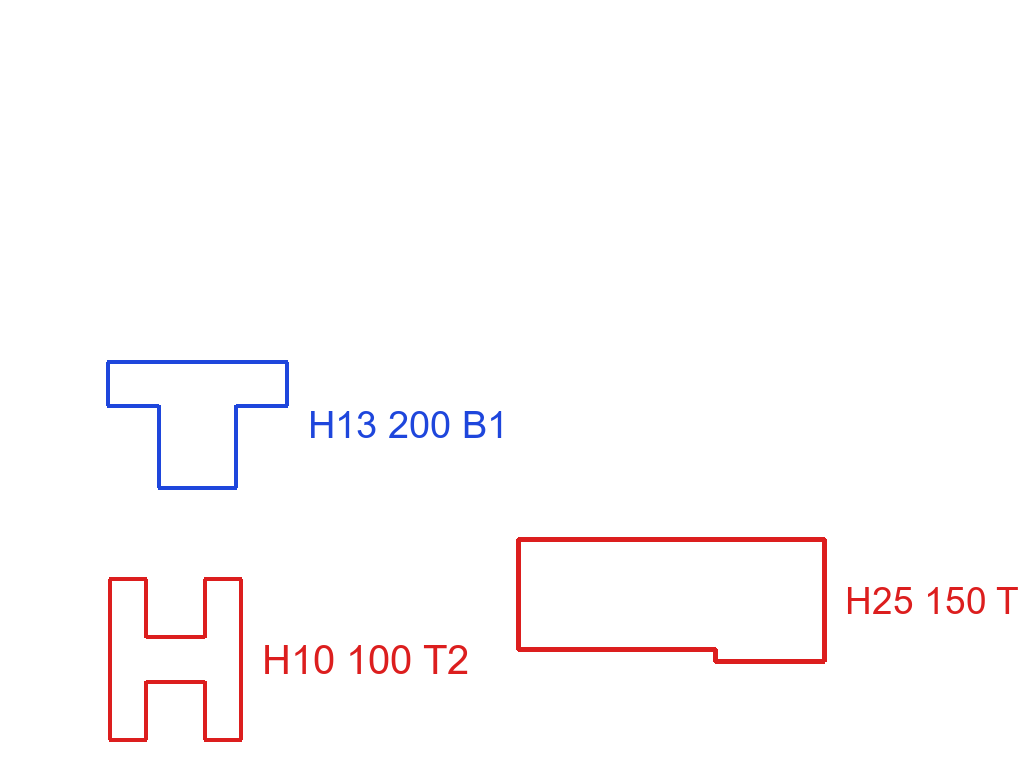shape: (514, 535, 829, 666), (103, 358, 291, 491), (105, 576, 246, 743)
text: (260, 643, 471, 676), (305, 409, 509, 440), (843, 585, 1022, 616)
